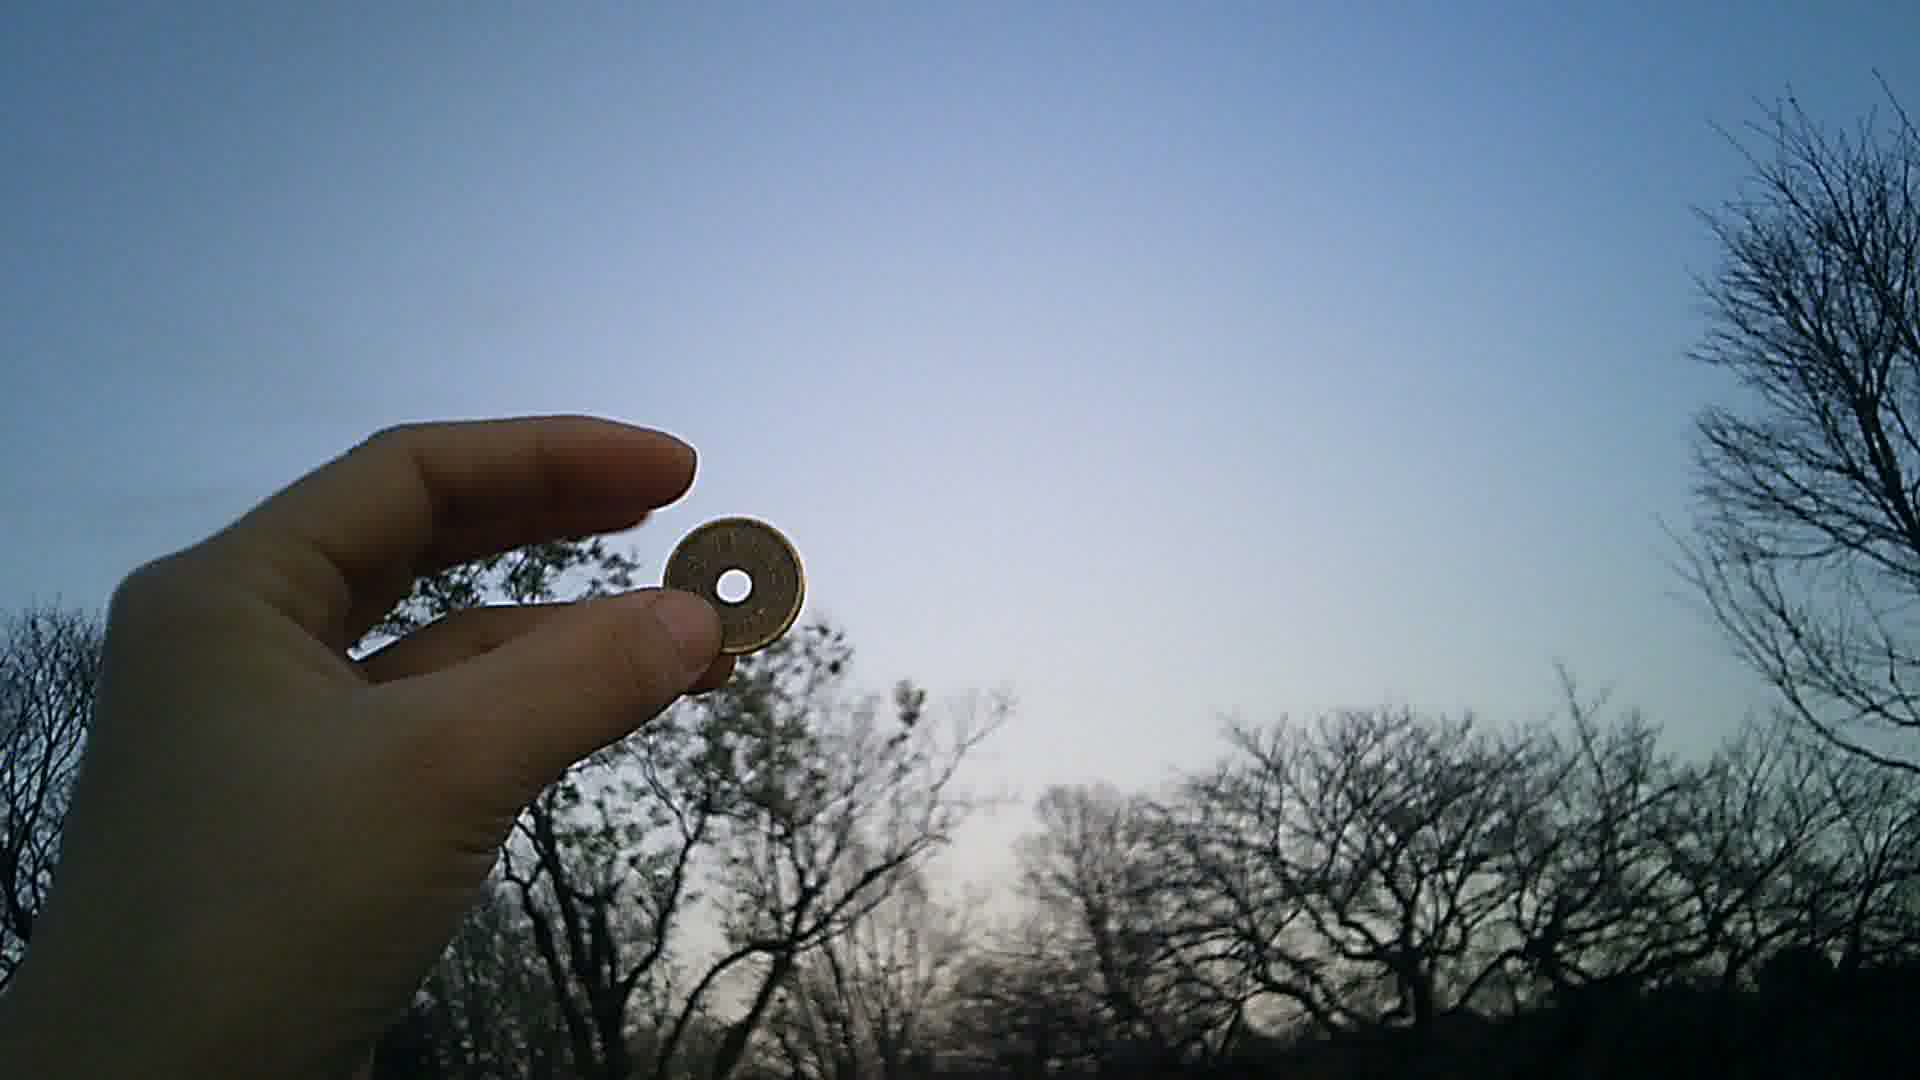5 Yen: (666, 505, 810, 658)
